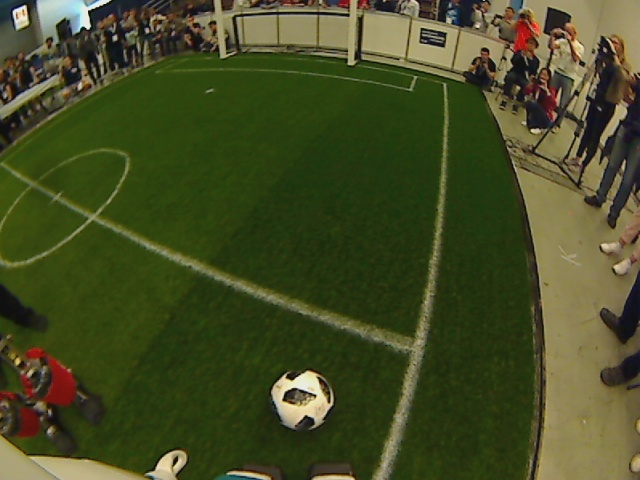ball: (269, 367, 336, 436)
